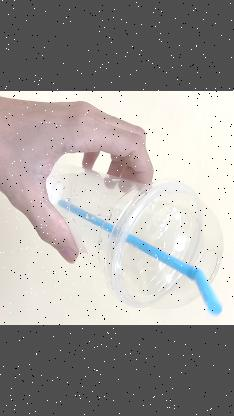Others: (45, 163, 223, 311)
